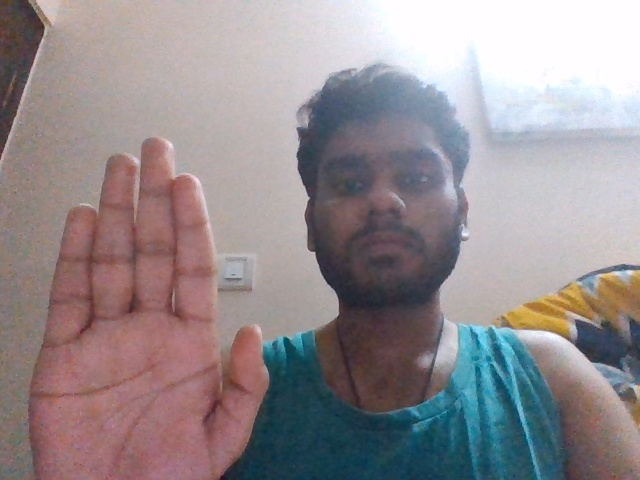hello: (17, 120, 274, 480)
